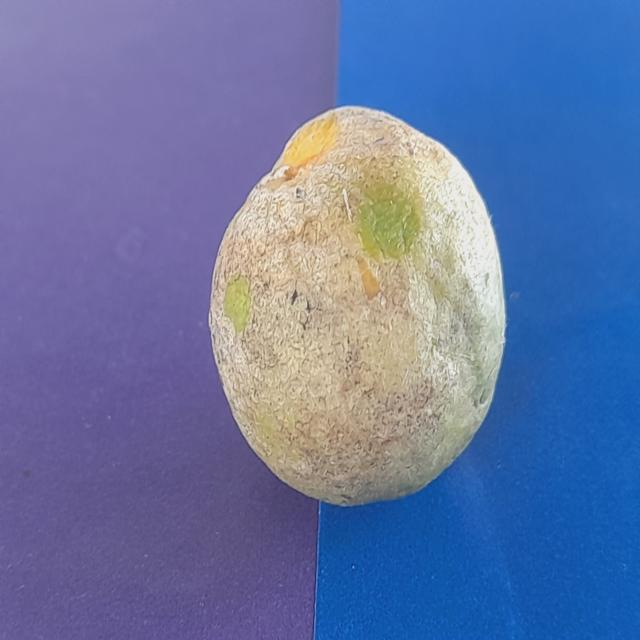thrips: (166, 91, 556, 522)
